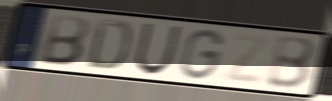B: (36, 12, 91, 69), (265, 36, 319, 92)
D: (84, 17, 134, 73)
G: (178, 28, 225, 82)
U: (133, 21, 184, 77)
Z: (222, 31, 273, 87)
